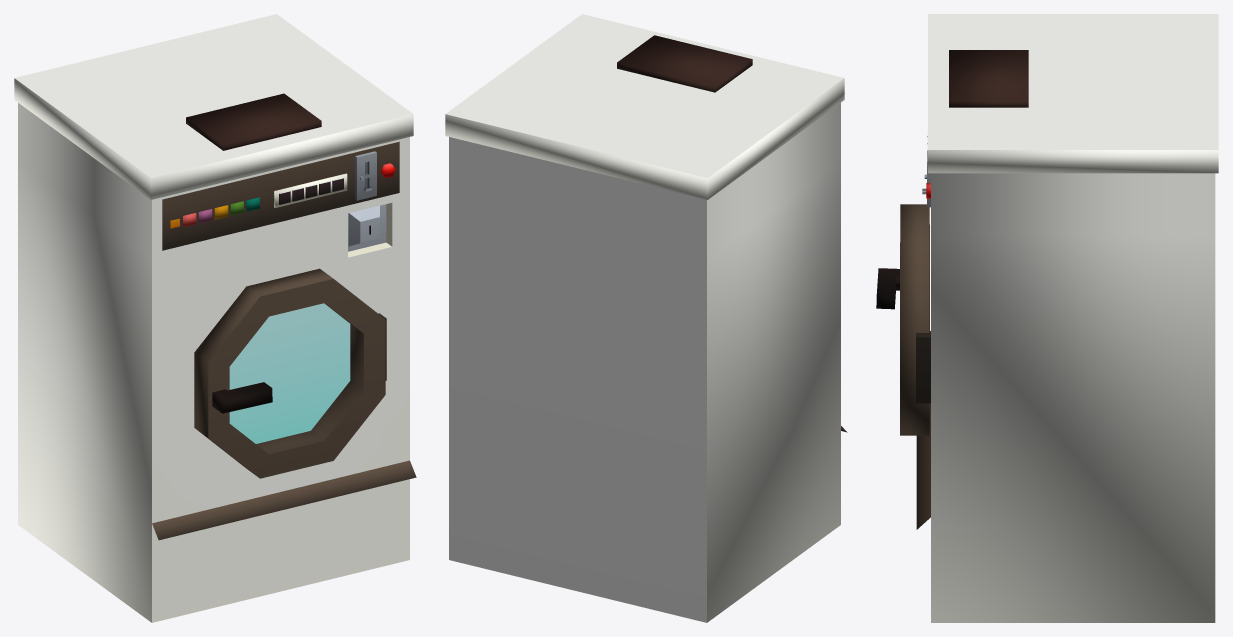
The model's file is Washer_S_Laundromat.fbx.
The picture shows the model from 3 angles, left to right: view 1: azimuth 30°, elevation 25°; view 2: azimuth 150°, elevation 25°; view 3: azimuth 270°, elevation 25°; orthographic projection. The views are drawn at different scales.
Parts seen in each view (by area): view 1: Washer_S.Laundromat, Washer_S_Door.Laundromat, Washer_S_Lid.Laundromat, Washer_S_CoinCollector_0.Laundromat, Washer_S_DoorHandle.Laundromat; view 2: Washer_S.Laundromat, Washer_S_Lid.Laundromat; view 3: Washer_S.Laundromat, Washer_S_Door.Laundromat, Washer_S_Lid.Laundromat, Washer_S_DoorHandle.Laundromat.
Boxes of the visible parts, x1,y1,x2,y2 form: Washer_S.Laundromat: [14, 14, 416, 622]; Washer_S_Door.Laundromat: [194, 268, 386, 478]; Washer_S_Lid.Laundromat: [186, 93, 321, 150]; Washer_S_CoinCollector_0.Laundromat: [348, 204, 386, 251]; Washer_S_DoorHandle.Laundromat: [212, 382, 272, 413]; Washer_S.Laundromat: [445, 14, 847, 622]; Washer_S_Lid.Laundromat: [617, 35, 752, 92]; Washer_S.Laundromat: [916, 14, 1218, 622]; Washer_S_Door.Laundromat: [900, 204, 930, 435]; Washer_S_Lid.Laundromat: [949, 50, 1028, 107]; Washer_S_DoorHandle.Laundromat: [876, 268, 899, 309].
Size of the model in its own units: 80 by 132 by 85.04.
1 material, 1 textured.
